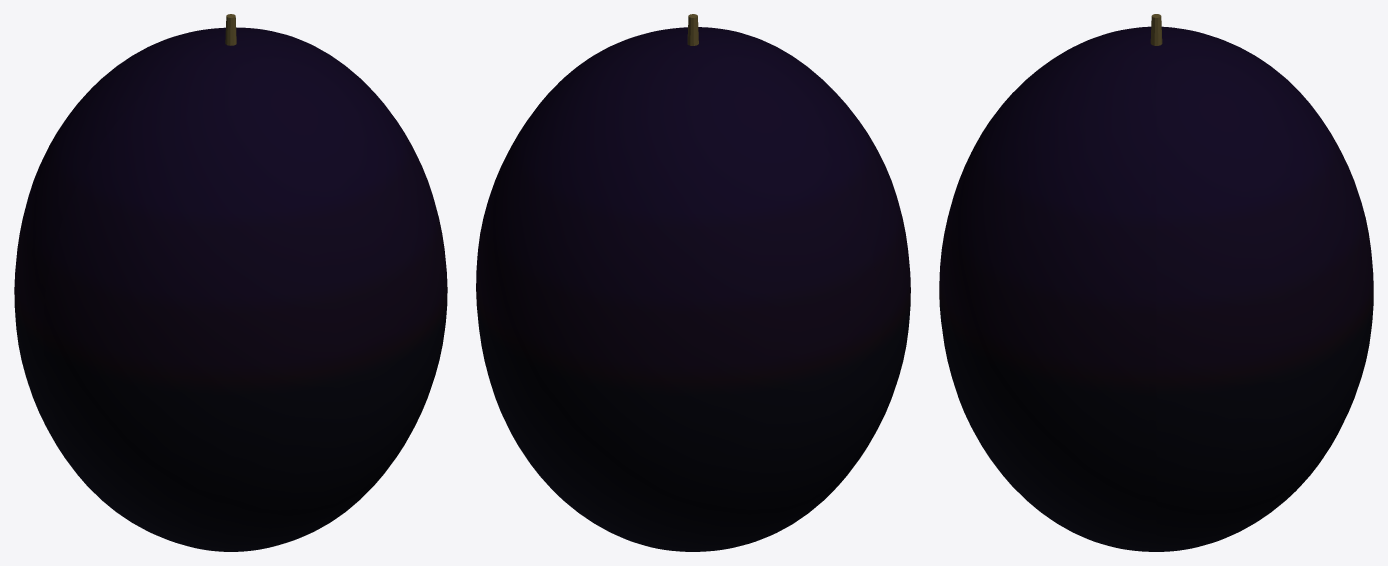
The model's file is raisin-noir.glb.
3 renders of one model, left to right at view 1: azimuth 30°, elevation 25°; view 2: azimuth 150°, elevation 25°; view 3: azimuth 270°, elevation 25°, orthographic.
Visible parts, largest first — view 1: entier_peau, moitie_B_peau, moitie_A_peau; view 2: moitie_A_peau, entier_peau, moitie_B_peau; view 3: entier_peau, moitie_A_peau, moitie_B_peau.
Part boxes in pixels (box(x1,y1,x2,y2)): entier_peau: box(14, 27, 447, 551); moitie_B_peau: box(43, 39, 447, 551); moitie_A_peau: box(14, 27, 333, 508); moitie_A_peau: box(476, 39, 881, 551); entier_peau: box(476, 27, 910, 551); moitie_B_peau: box(592, 27, 910, 503); entier_peau: box(939, 26, 1373, 551); moitie_A_peau: box(1156, 27, 1373, 551); moitie_B_peau: box(939, 27, 1156, 551).
Bounding box in the file's own units: 1.44 × 1.9 × 1.44.
